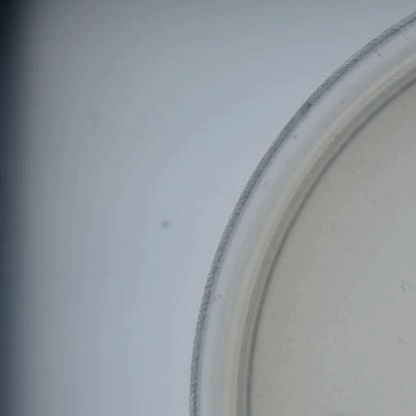worm: (386, 273, 416, 299)
